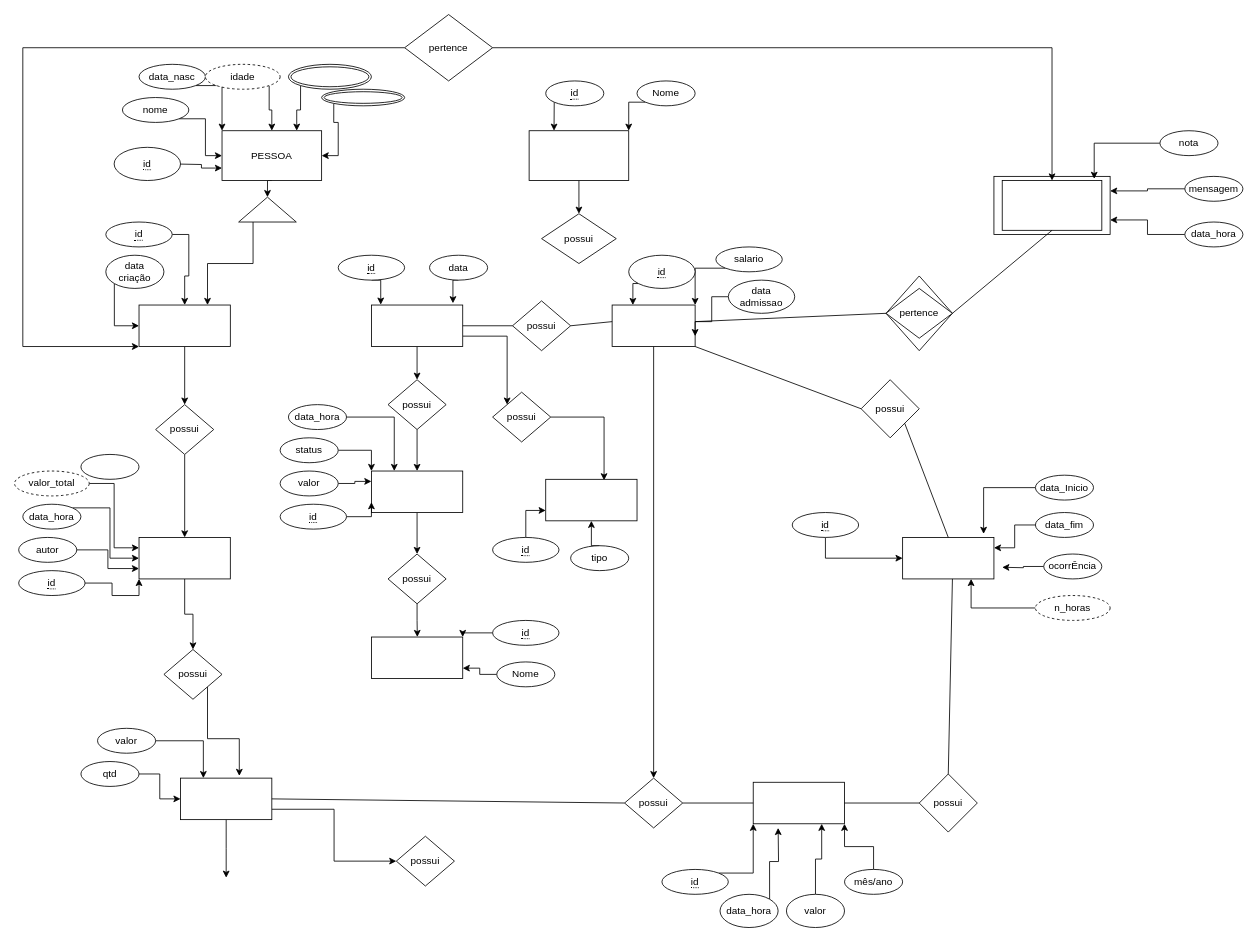
This 1257x942 diagram has some shape labels left out. Each missing label, with the centre of its shape:
AVALIAÇÃO: pixel 1051 205
CAIXA: pixel 591 499
CARGO: pixel 578 155
CLIENTE: pixel 184 325
COBRANÇA: pixel 417 491
email: pixel 329 76
FORMA COBRANÇA: pixel 417 657
FUNCIONARIO: pixel 653 325
LIVRO: pixel 184 558
MOVIMENTACAO CAIXA: pixel 417 325
PAGAMENTO: pixel 798 802
PEDIDOS: pixel 226 798
REGISTRO DE HORA: pixel 948 558
telefones: pixel 363 97
título: pixel 109 466
